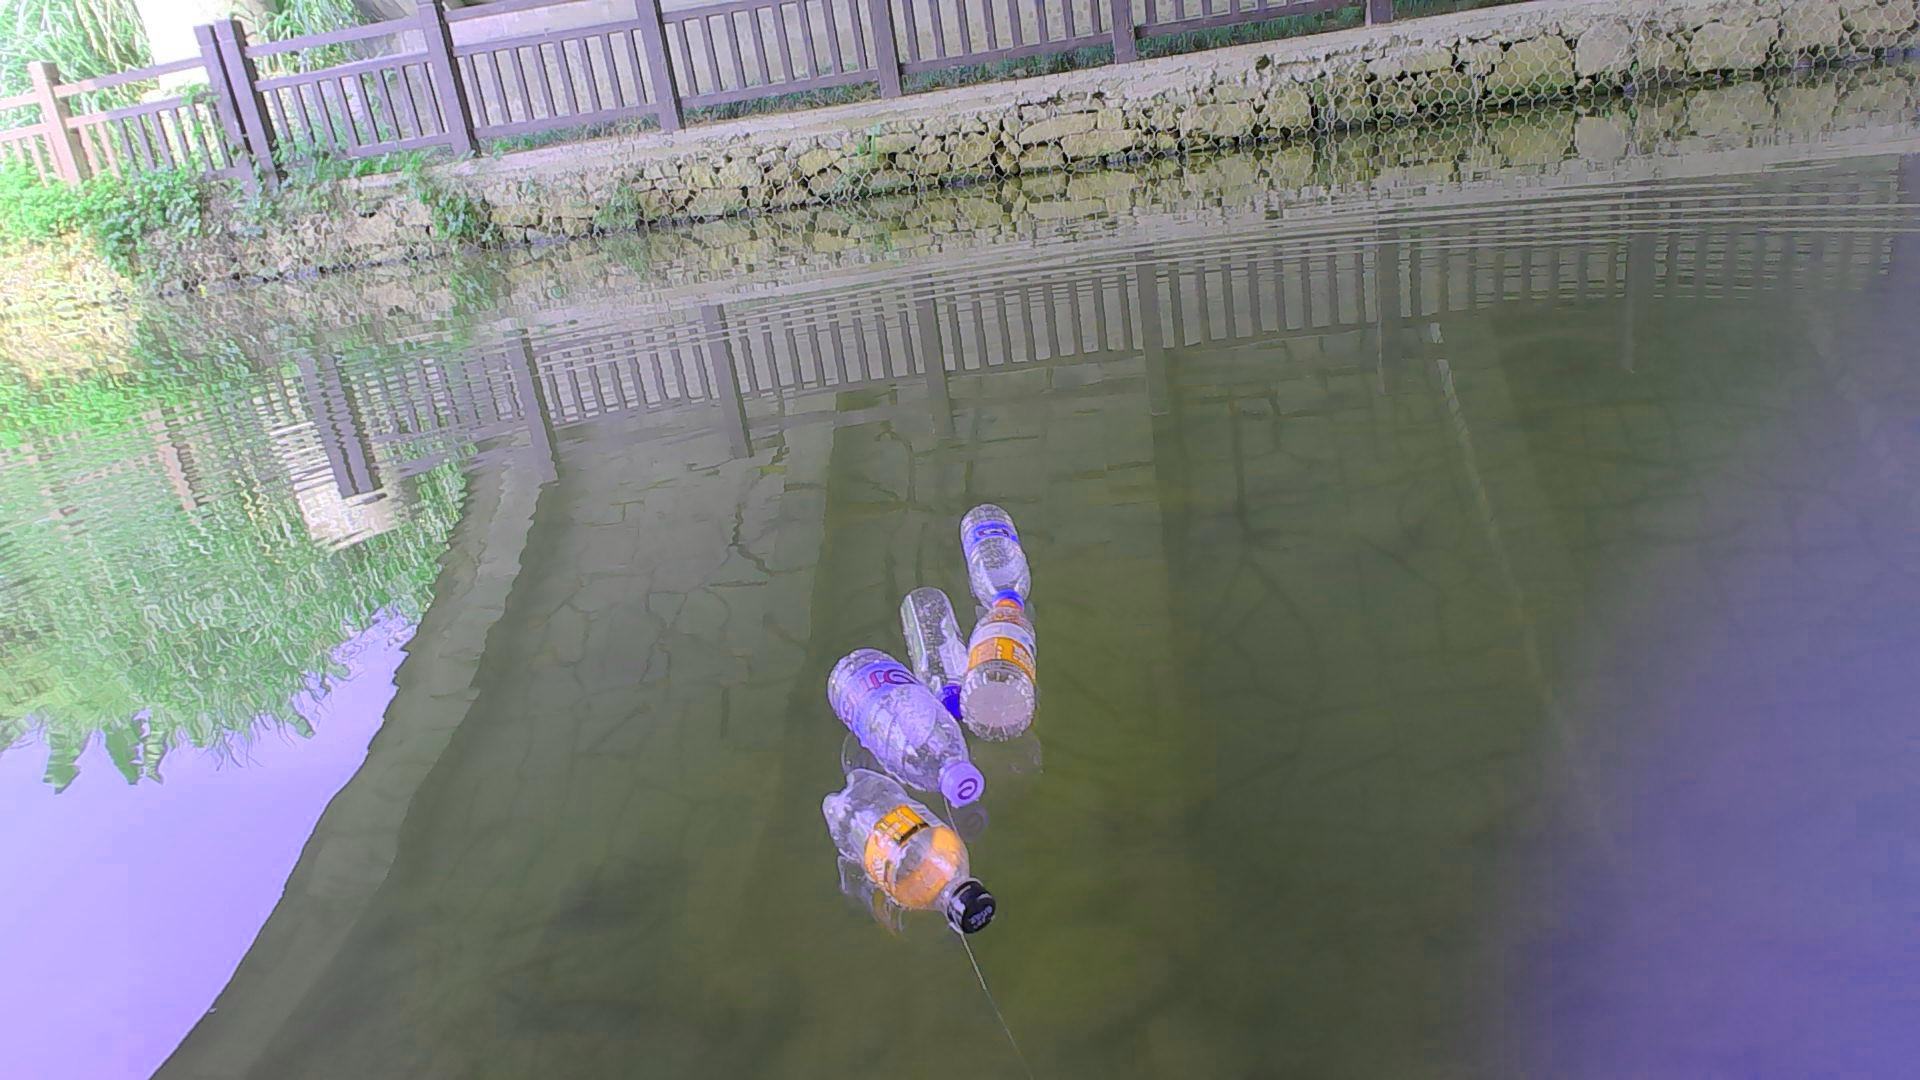Plastic: (811, 770, 1015, 930), (823, 646, 978, 798), (961, 595, 1038, 745), (957, 493, 1038, 601), (903, 582, 967, 711)
